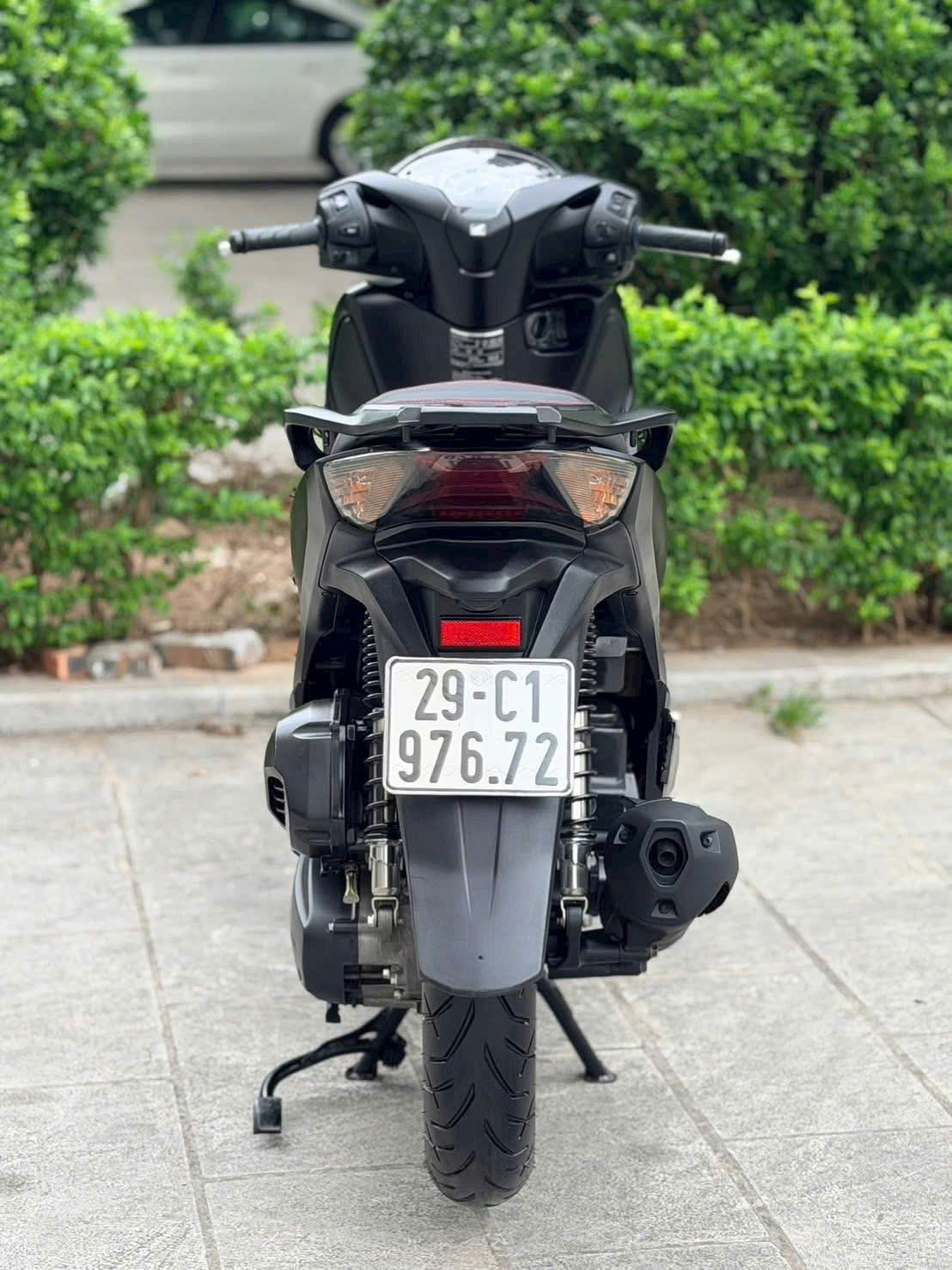Bien-so: (379, 651, 581, 799)
